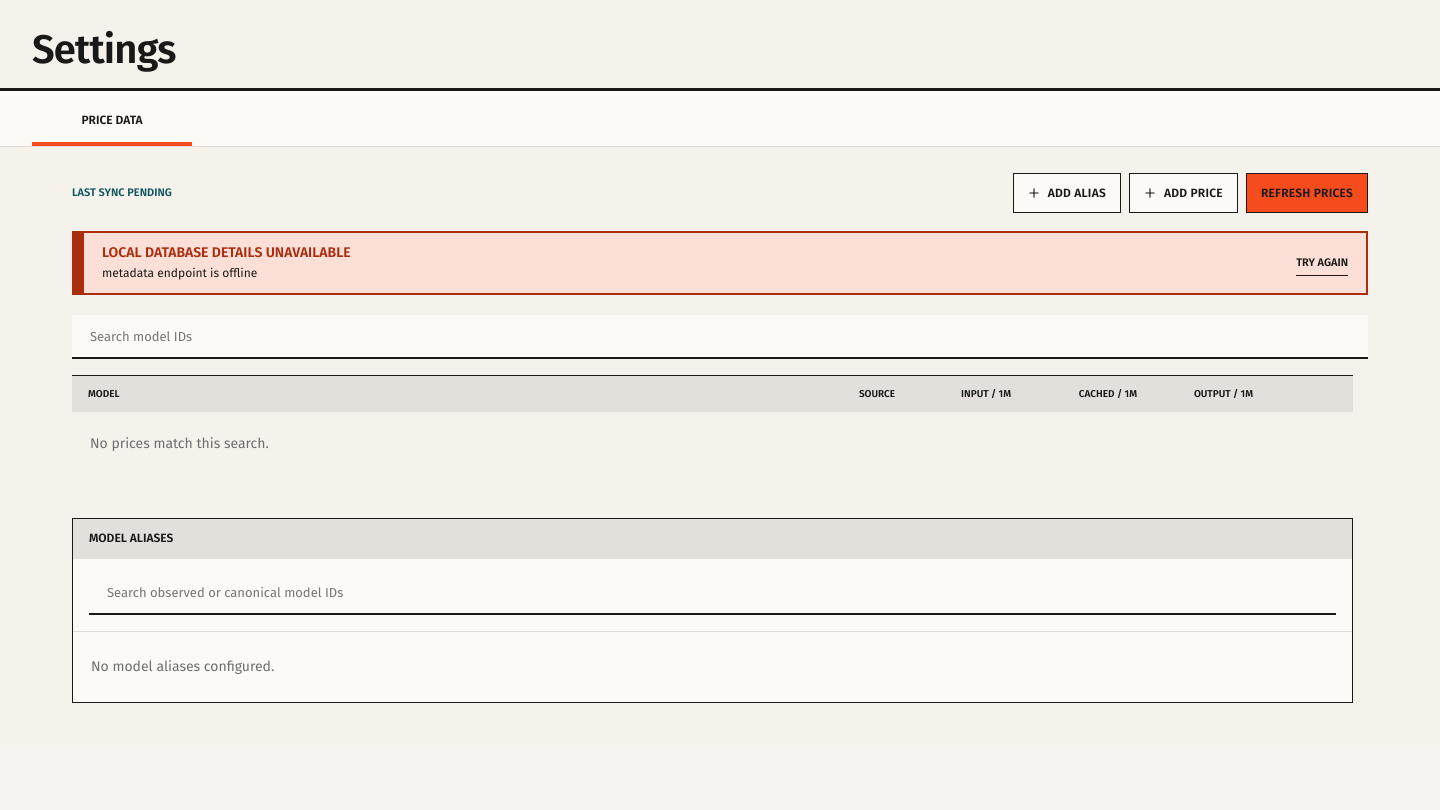
Scenario: SettingsPage price editor › keeps the price ledger usable when local database metadata fails and retries it independently
expect the table named "Model prices" is shown: met, box top-left (72, 375), bottom-right (1353, 482)
expect the message shows "LOCAL DATABASE DETAILS UNAVAILABLE": met, box top-left (102, 244), bottom-right (351, 261)
Click the button "TRY AGAIN".
click(1322, 263)  # box top-left (1296, 250), bottom-right (1348, 276)
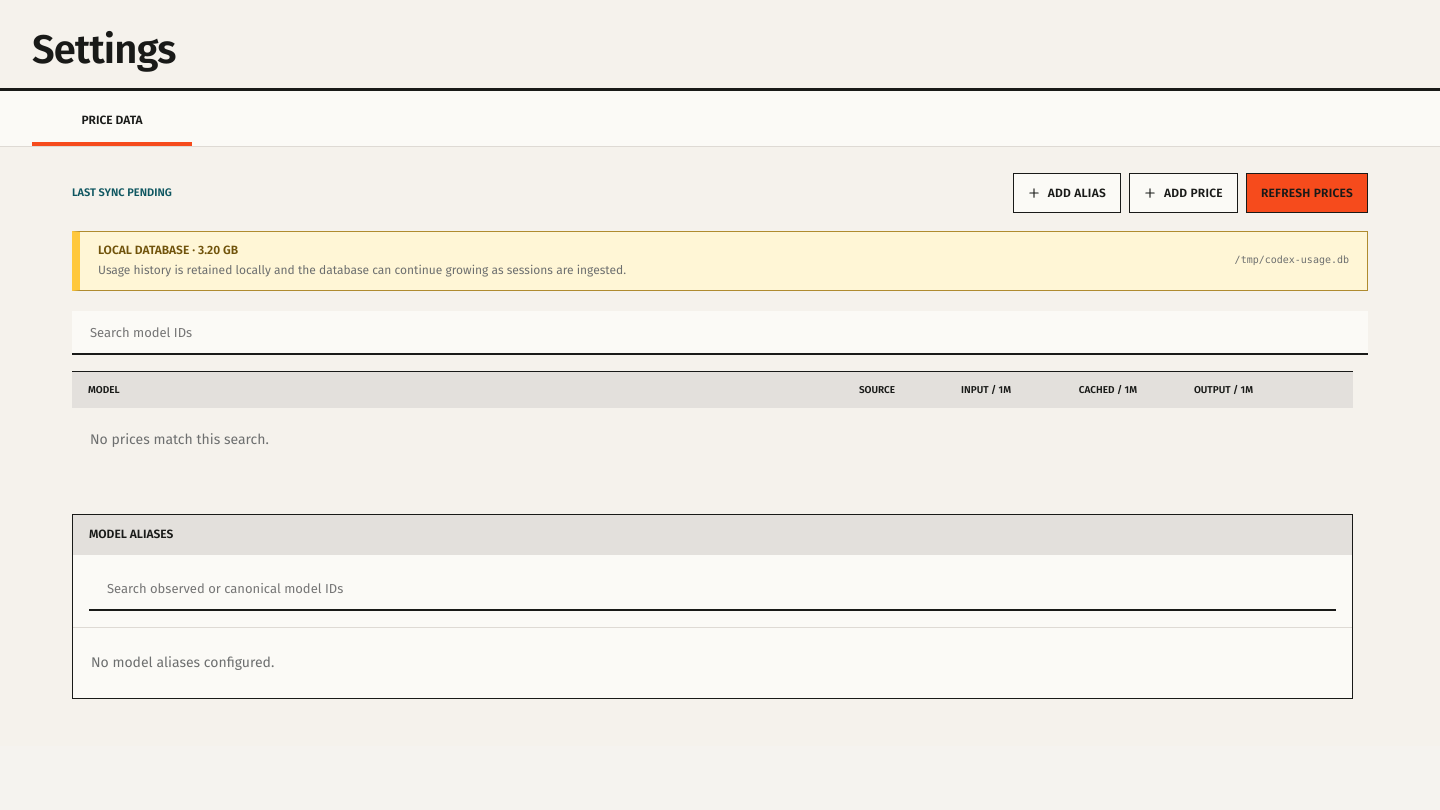
expect the message shows "LOCAL DATABASE · 3.20 GB": met, box top-left (72, 231), bottom-right (1368, 291)
